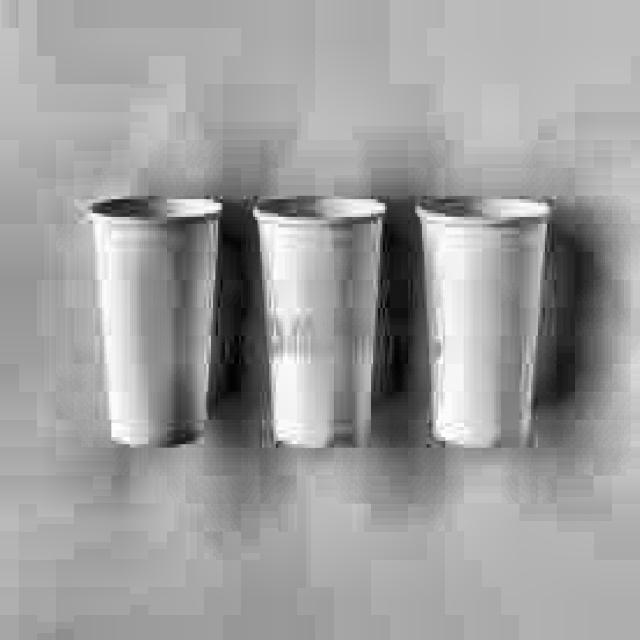Cup: (239, 196, 390, 468), (406, 193, 546, 462), (82, 190, 224, 448)
